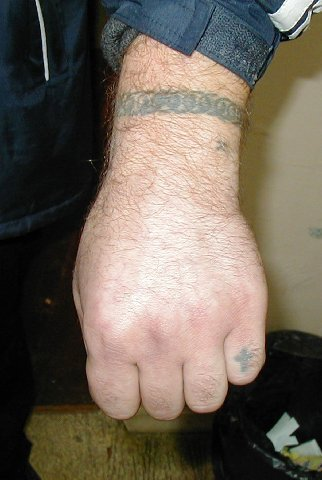tatu9_krest: (228, 336, 258, 375)
